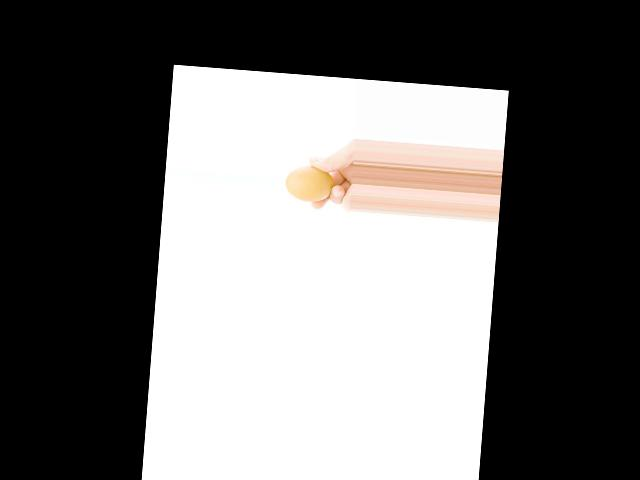egg: (284, 164, 333, 204)
